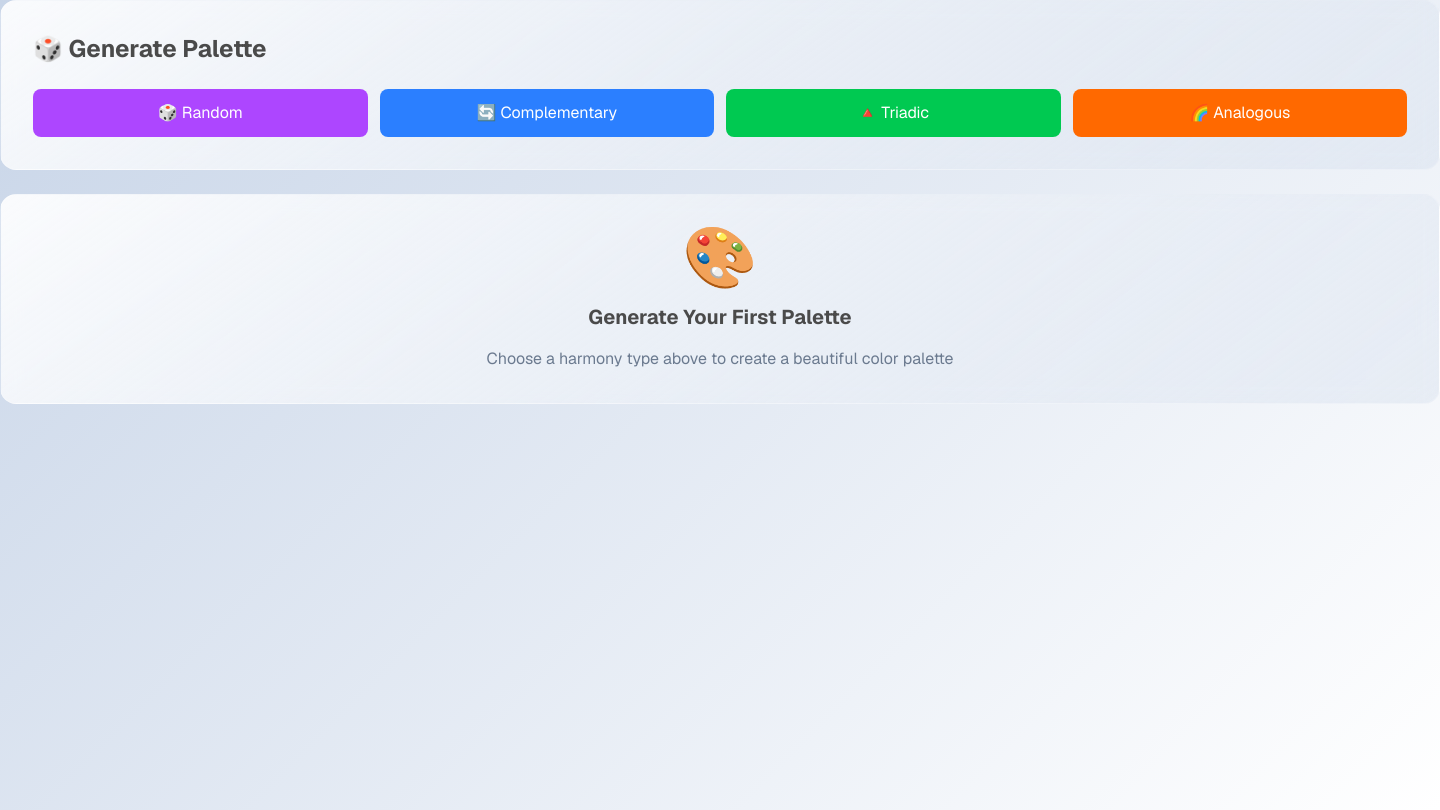
it: PaletteGenerator › generates random palette when random button is clicked
Click the button "🎲 Random".
click(200, 113)  # box [33,89,368,137]
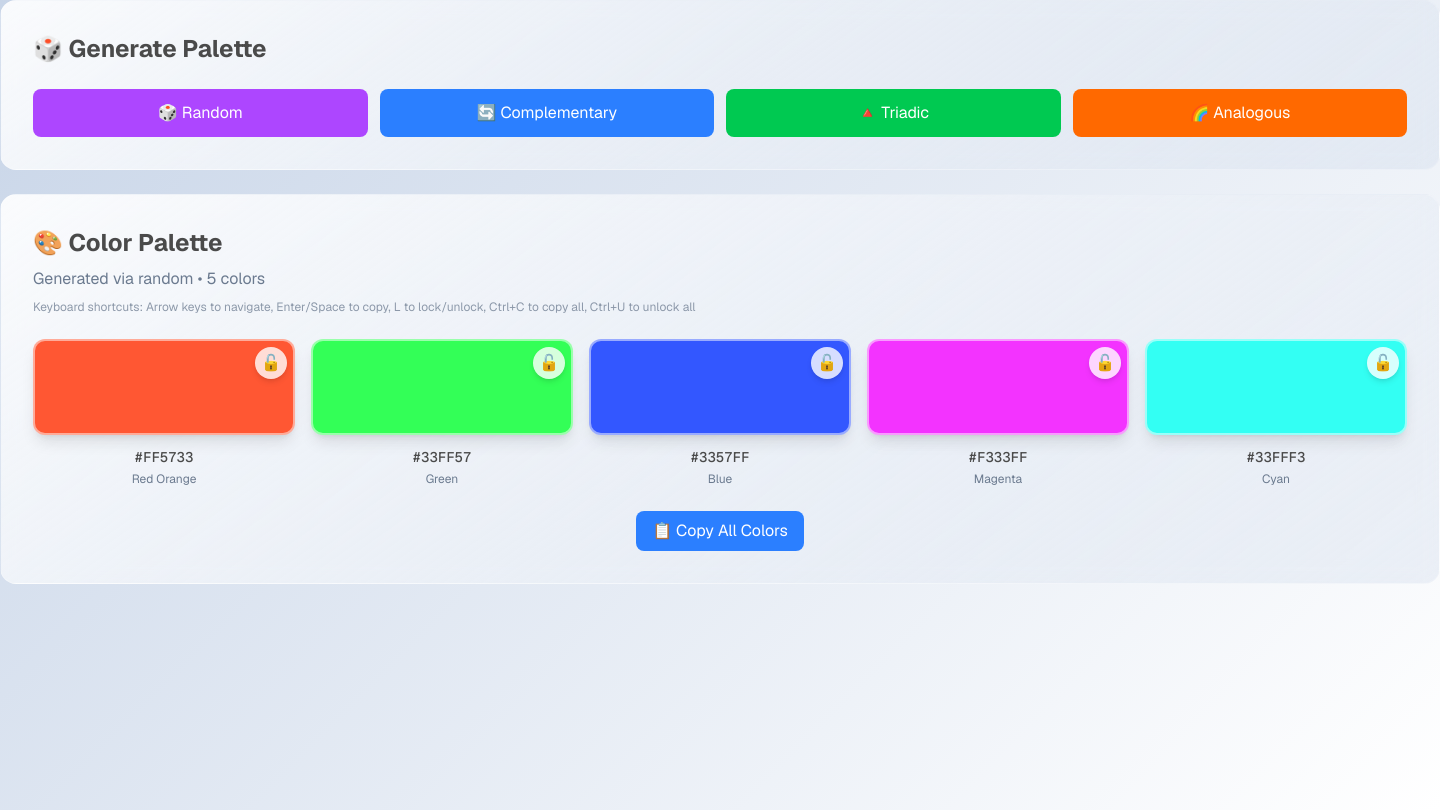
Result: the heading "🎨 Color Palette" is shown at [33,227,222,258]
